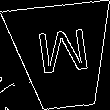M_S: (32, 29, 92, 84)
